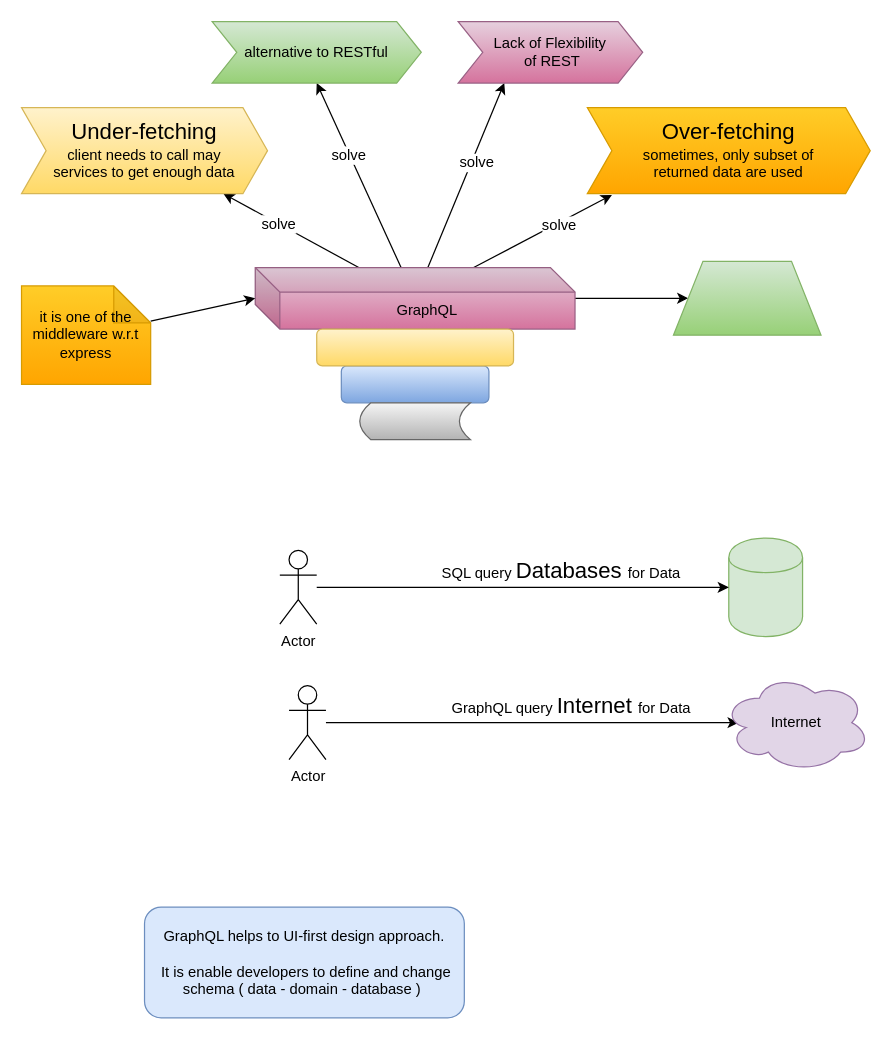
This 892x1039 diagram has some shape labels left out. The centre of each missing label's shape, as x and y in pixels:
"Database" belongs at point 765,587.
"Express" belongs at point 414,384.
"Express-GraphQL" belongs at point 414,347.
"Node.js" belongs at point 414,421.
"Type system (schema)" belongs at point 746,297.
